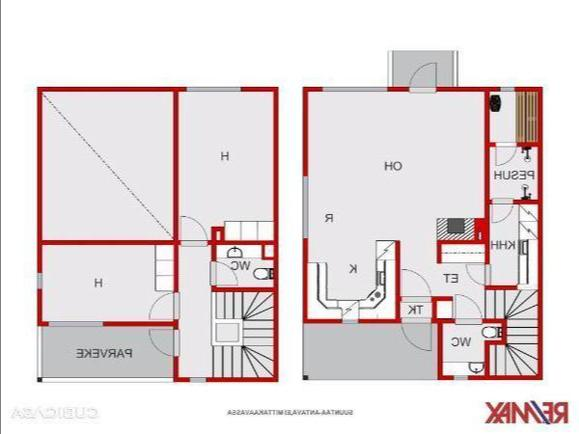bathroom: (440, 322, 502, 380), (212, 240, 272, 288)
door: (398, 267, 432, 304), (400, 318, 432, 354), (178, 213, 209, 248), (145, 328, 181, 358), (452, 292, 484, 325), (407, 61, 439, 94), (146, 292, 179, 322), (209, 260, 239, 287), (463, 262, 491, 286), (494, 142, 517, 168), (492, 198, 514, 224)
perimeter: (40, 87, 279, 382), (304, 85, 542, 380)
stairs: (502, 288, 540, 376), (242, 290, 274, 378), (211, 346, 274, 380), (484, 288, 540, 323), (213, 290, 276, 320), (488, 342, 540, 376)
window: (42, 318, 106, 330), (317, 84, 391, 94), (300, 170, 310, 244), (184, 85, 244, 94), (450, 372, 472, 382), (34, 268, 43, 292), (184, 376, 210, 384), (338, 318, 362, 326), (498, 85, 518, 92)
